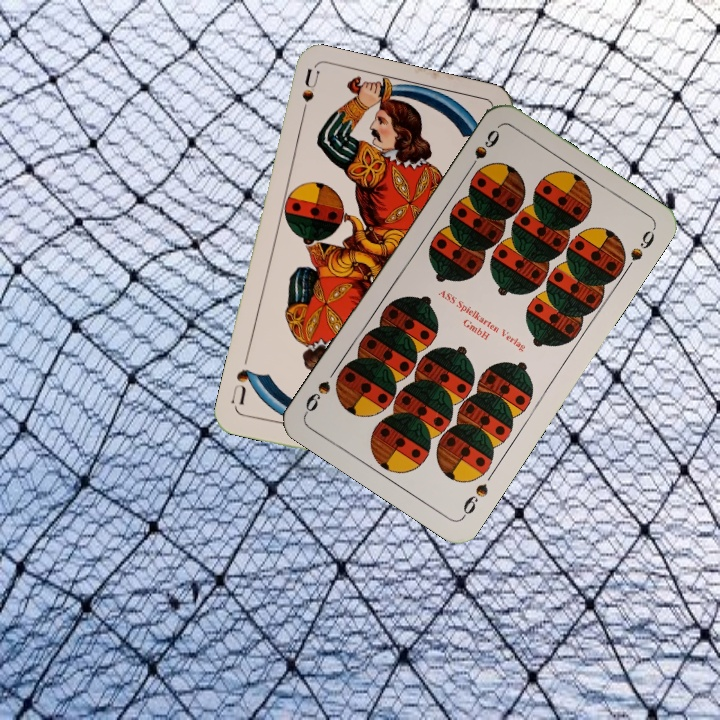S9: (463, 125, 503, 176), (458, 479, 491, 521)
SU: (296, 67, 322, 126)
